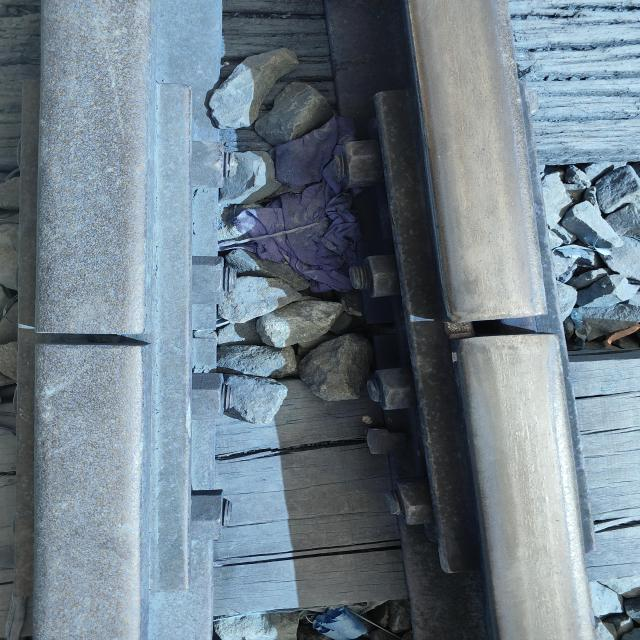Good Joint: (330, 49, 632, 593), (0, 62, 273, 637)
